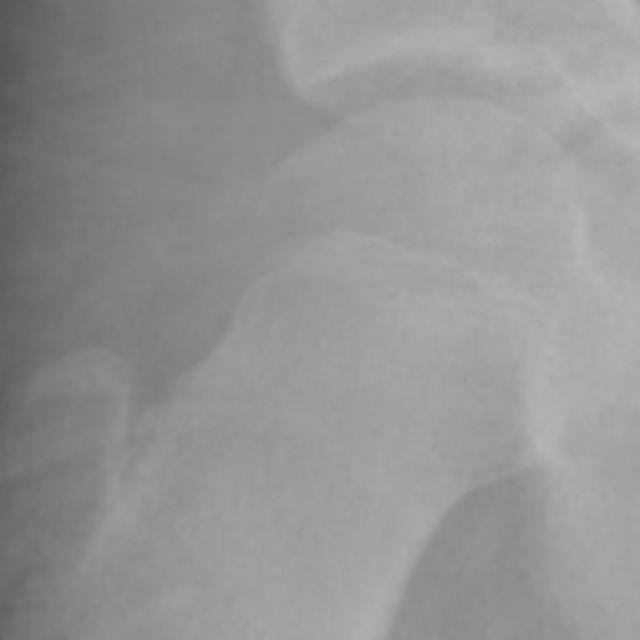Fitted_femural_head: (414, 99, 432, 414)
